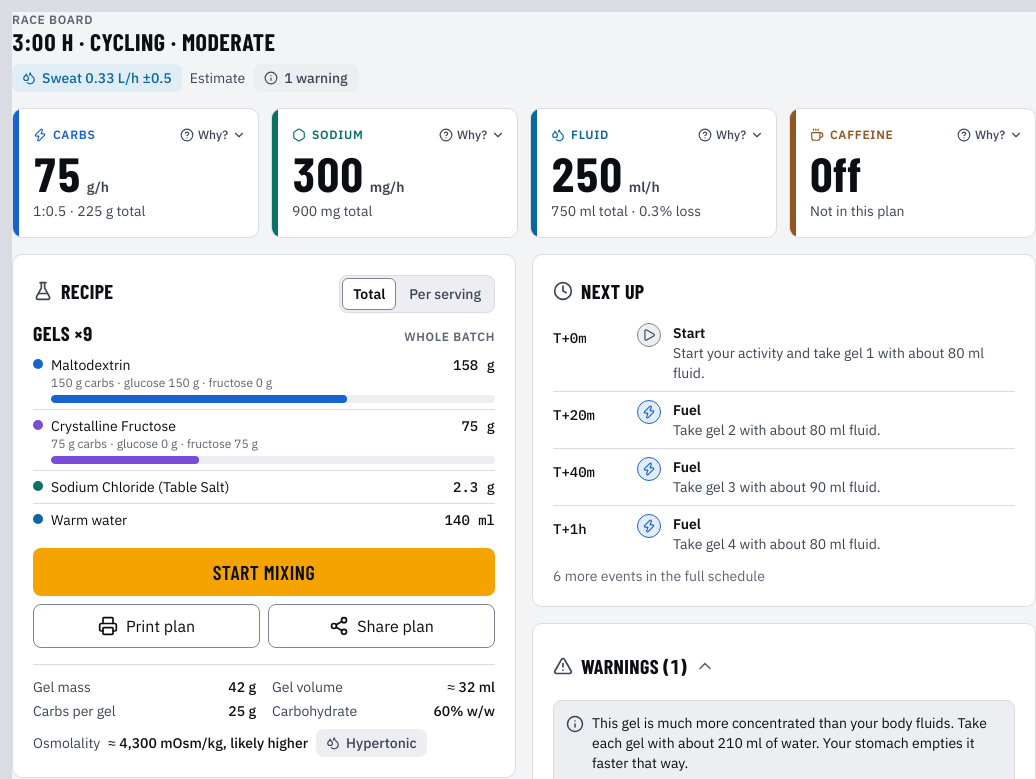
Test: RaceBoard: KPI tiles › reveals the carb explanation and its citations through Why, full width under the tile row
Click the button named "Why? (Carbs)" at (213, 135), box [180,125,246,145]
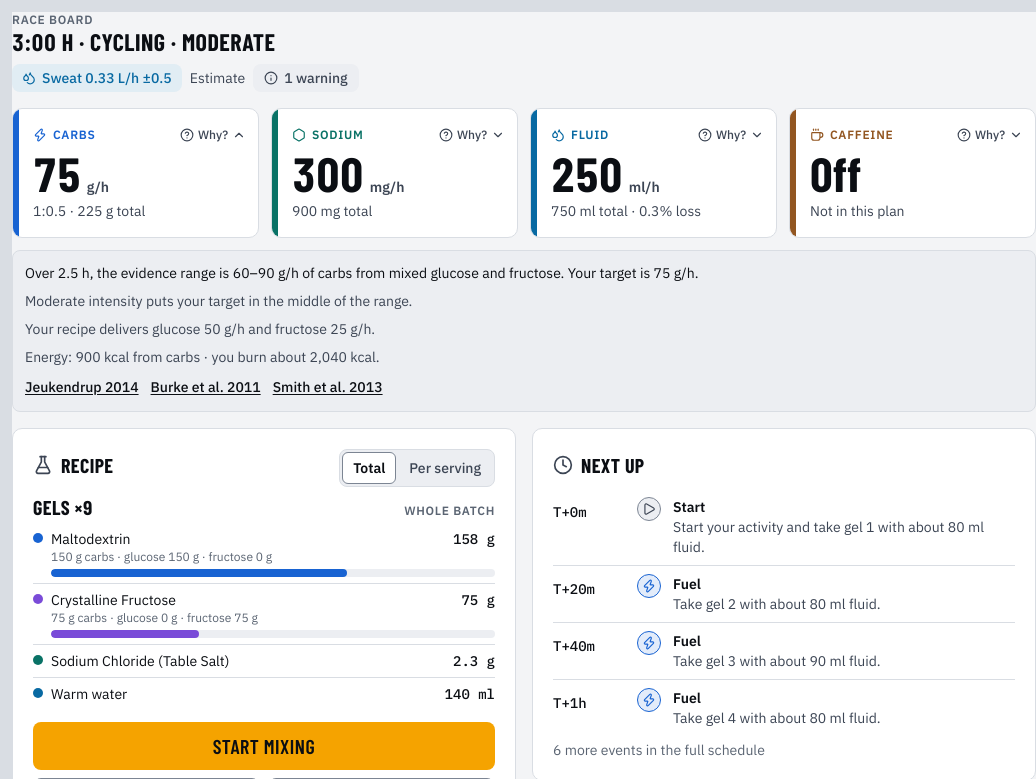
Result: the button named "Why? (Carbs)" is expanded at [180,125,246,145]
Result: the text "Over 2.5 h, the evidence range is 60–90 g/h of carbs from mixed glucose and fructose. Your target is 75 g/h." is shown at [25,264,698,282]
